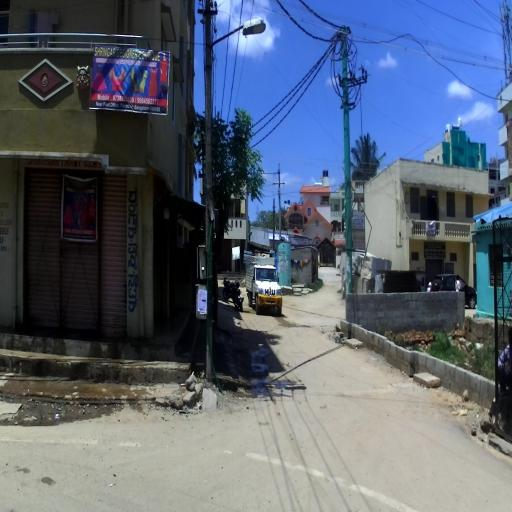street_light_0: (204, 16, 265, 72)
